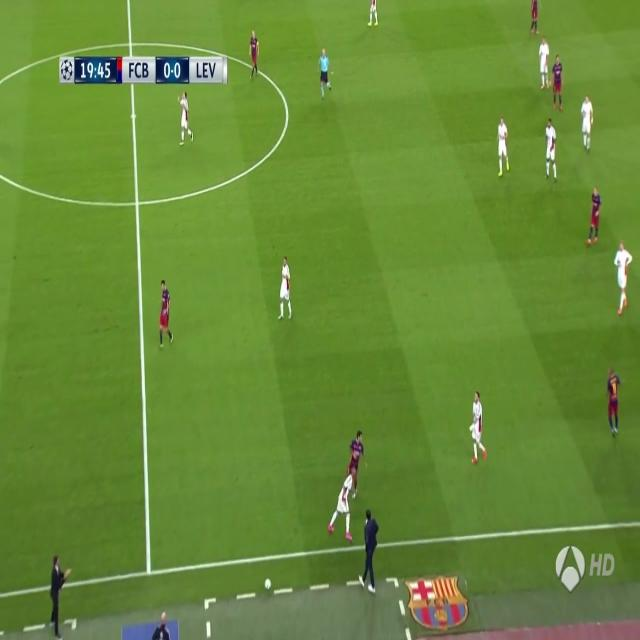Ball: (263, 574, 273, 594)
Player: (327, 466, 358, 544), (468, 390, 489, 468), (614, 238, 634, 318), (604, 365, 625, 439), (347, 428, 369, 496), (155, 274, 174, 352), (277, 253, 294, 326), (494, 115, 512, 182), (584, 183, 602, 250), (542, 116, 560, 182), (579, 91, 597, 155), (176, 89, 194, 149), (536, 36, 551, 92), (551, 52, 564, 114), (248, 28, 262, 84), (527, 0, 542, 36), (367, 0, 382, 30)
Referee: (315, 48, 334, 102)
